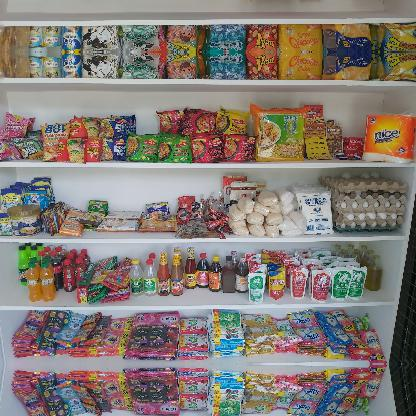Lady-s-Choice: (7, 204, 41, 238)
